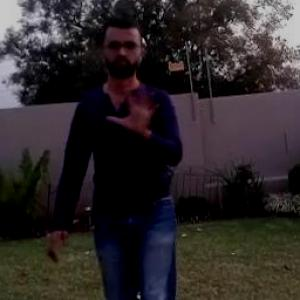follow_hand: (104, 82, 166, 135)
